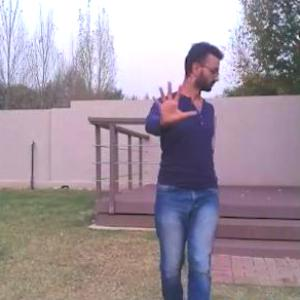follow_hand: (150, 82, 198, 126)
